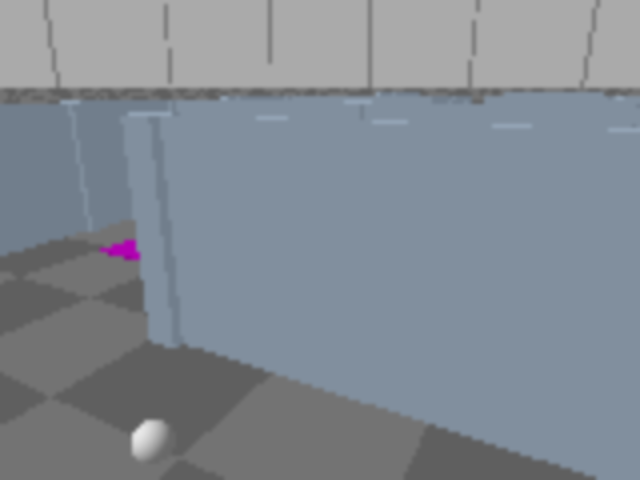puck: (119, 407, 185, 478)
